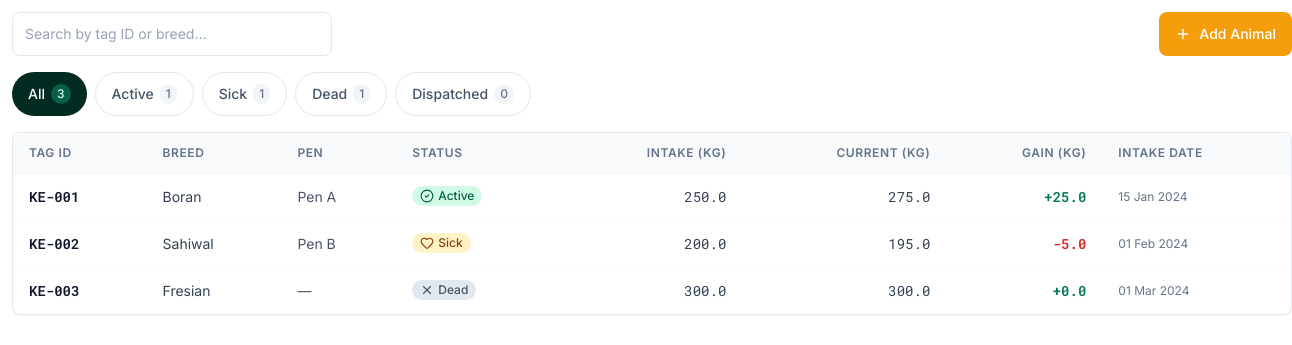
AnimalList › empty state › shows filter-specific empty message when filter selected but no matches
Click the button "Dispatched 0".
click(463, 94)  # box [395,72,531,116]
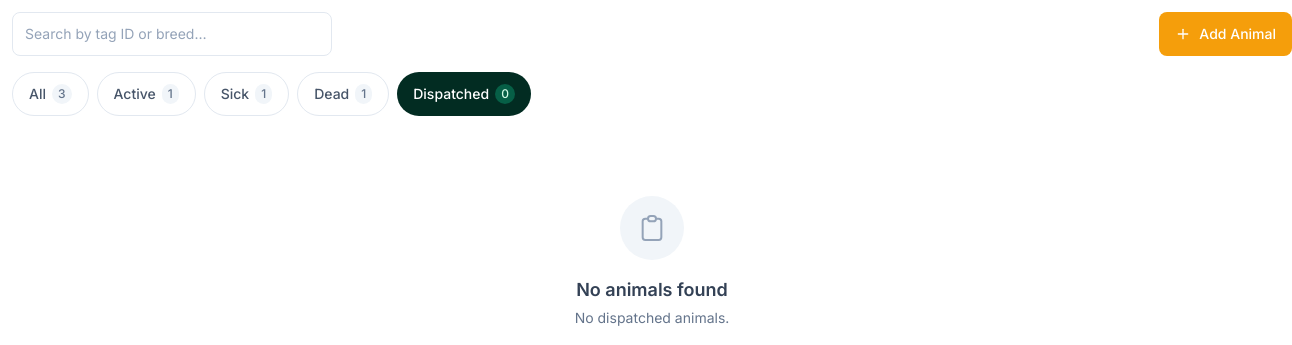
Check: the text "No dispatched animals." is shown, box [575,308,729,328]
